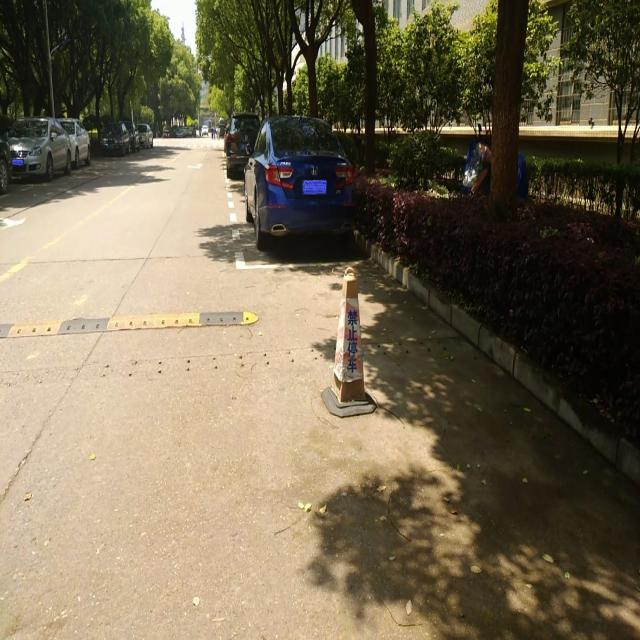car: (242, 112, 356, 247), (8, 116, 71, 182), (225, 111, 261, 179), (60, 117, 90, 168), (99, 122, 131, 156), (136, 123, 153, 148)
motorbike: (456, 123, 529, 201)
pole: (44, 2, 55, 114)
reflective_cone: (323, 268, 377, 418)
